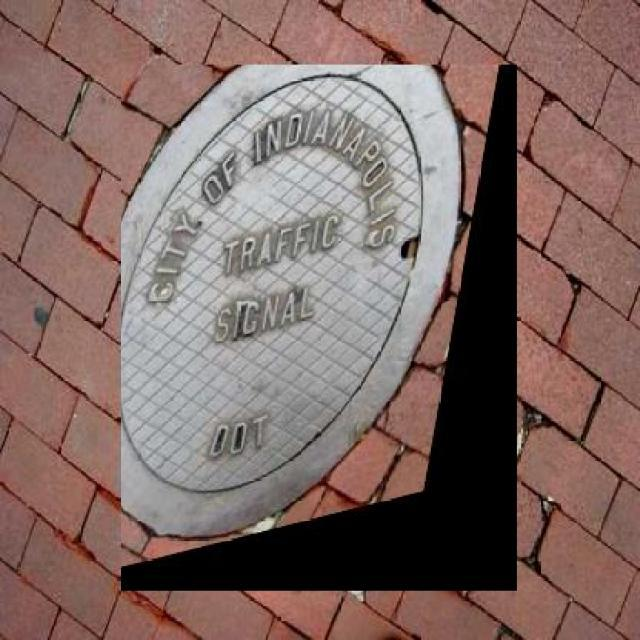Manhole: (120, 64, 517, 592)
